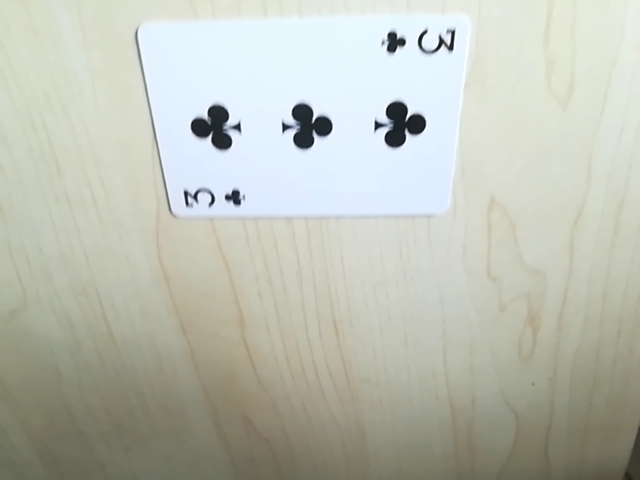mh 3: (381, 19, 460, 60), (174, 184, 247, 216)
